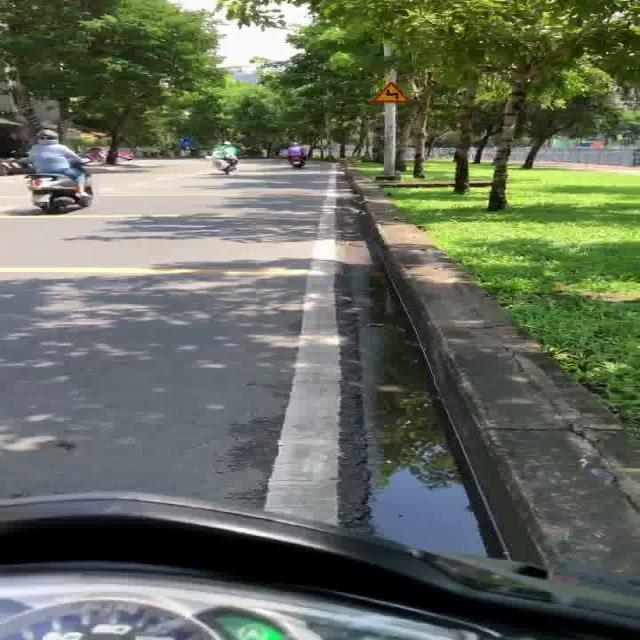Bien bao nhieu cho ngoat nguy hiem lien tiep: (366, 80, 418, 106)
